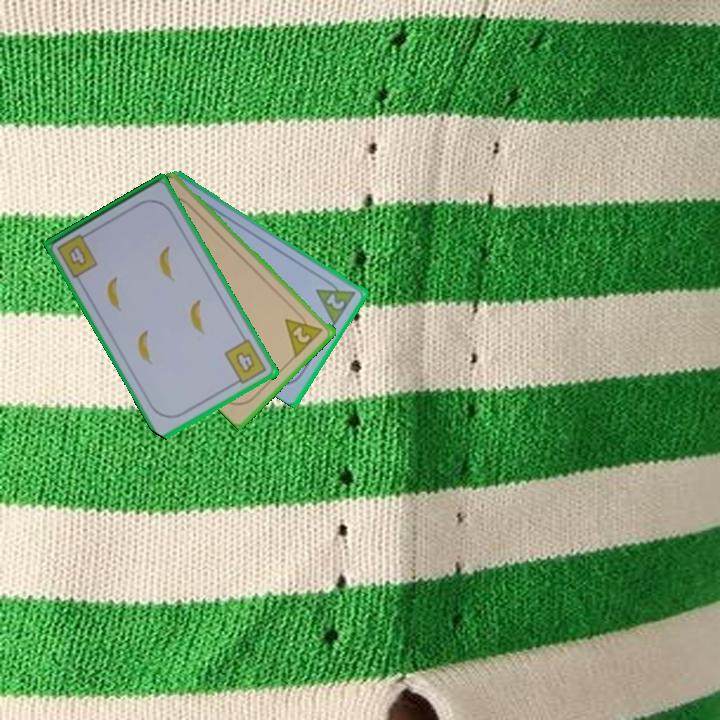2p: (312, 274, 359, 327), (281, 307, 327, 359)
4b: (221, 336, 270, 388), (65, 241, 90, 269)
